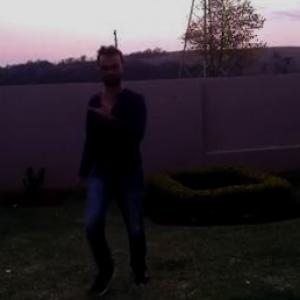follow_hand: (88, 84, 124, 118)
